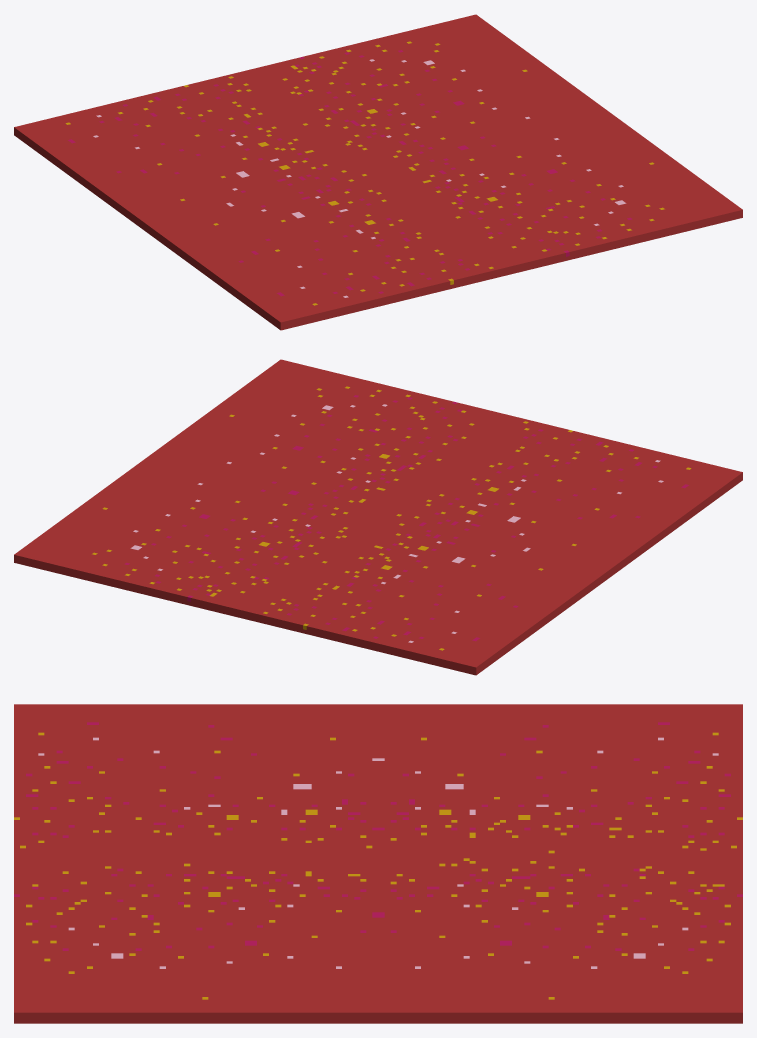
Rendered from mapkari-12.obj.
3 renders of one model, top to bottom at view 1: azimuth 30°, elevation 25°; view 2: azimuth 150°, elevation 25°; view 3: azimuth 270°, elevation 25°, orthographic. The views are drawn at different scales.
Parts seen in each view (by area): view 1: mapkari-12; view 2: mapkari-12; view 3: mapkari-12.
Part boxes in pixels (bbox=[...]): mapkari-12: bbox=[14, 14, 742, 330]; mapkari-12: bbox=[14, 359, 742, 675]; mapkari-12: bbox=[14, 704, 742, 1023].
Bounding box in the file's own units: 120 × 2 × 120.
1 material, 1 textured.
